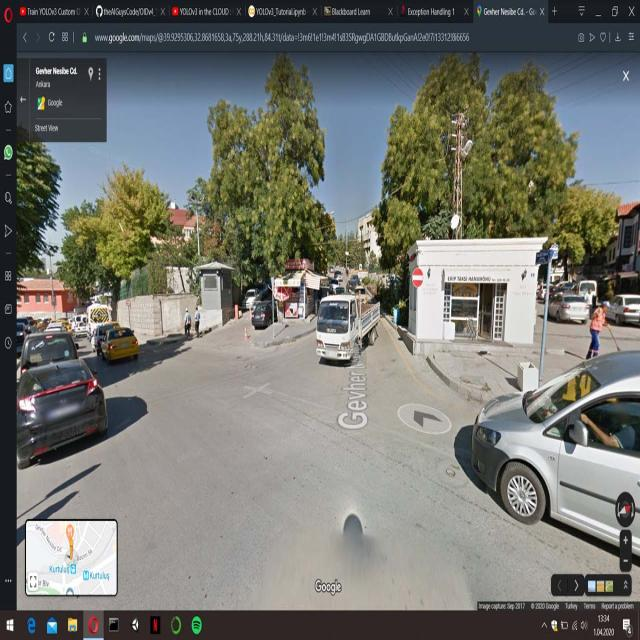girisyok: (410, 268, 424, 290)
